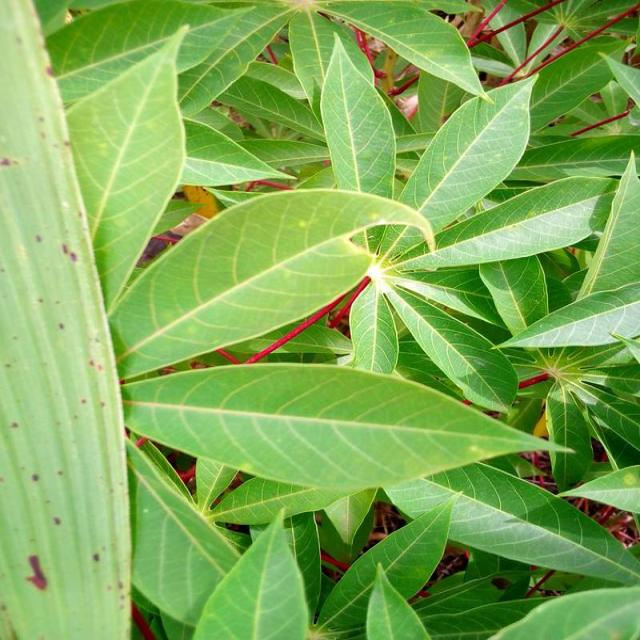cassava leaf: (2, 0, 638, 638), (108, 184, 436, 380), (121, 359, 552, 494)
